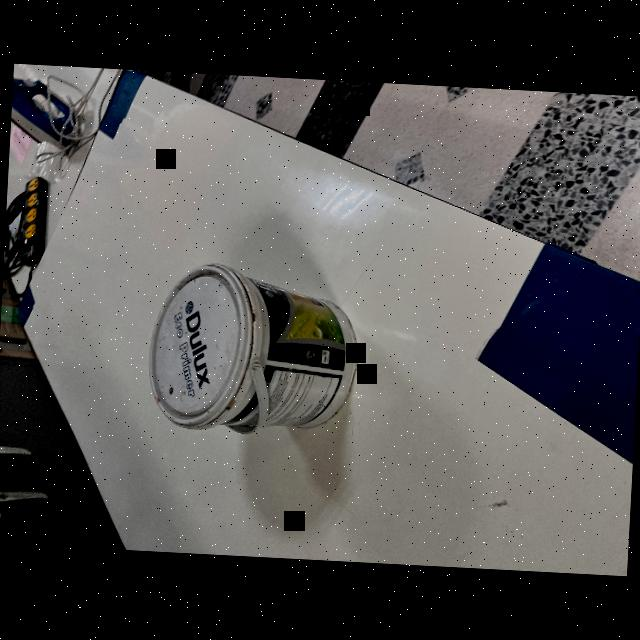paint_bucket: (142, 258, 367, 442)
